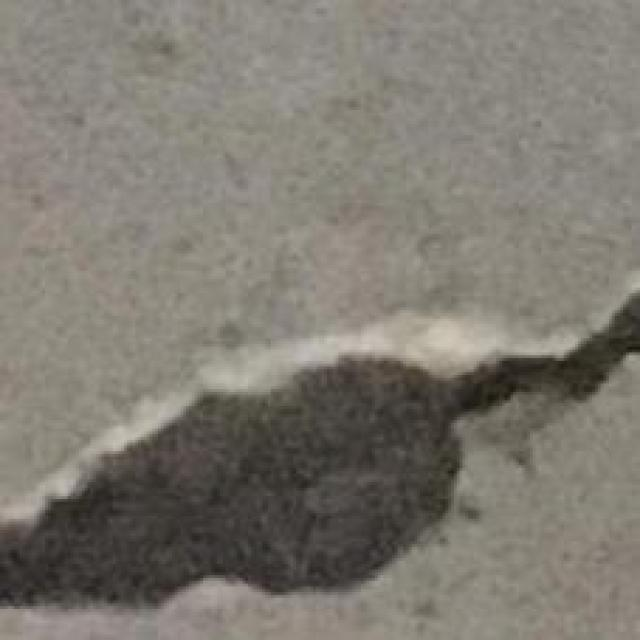Crack: (0, 292, 638, 612)
